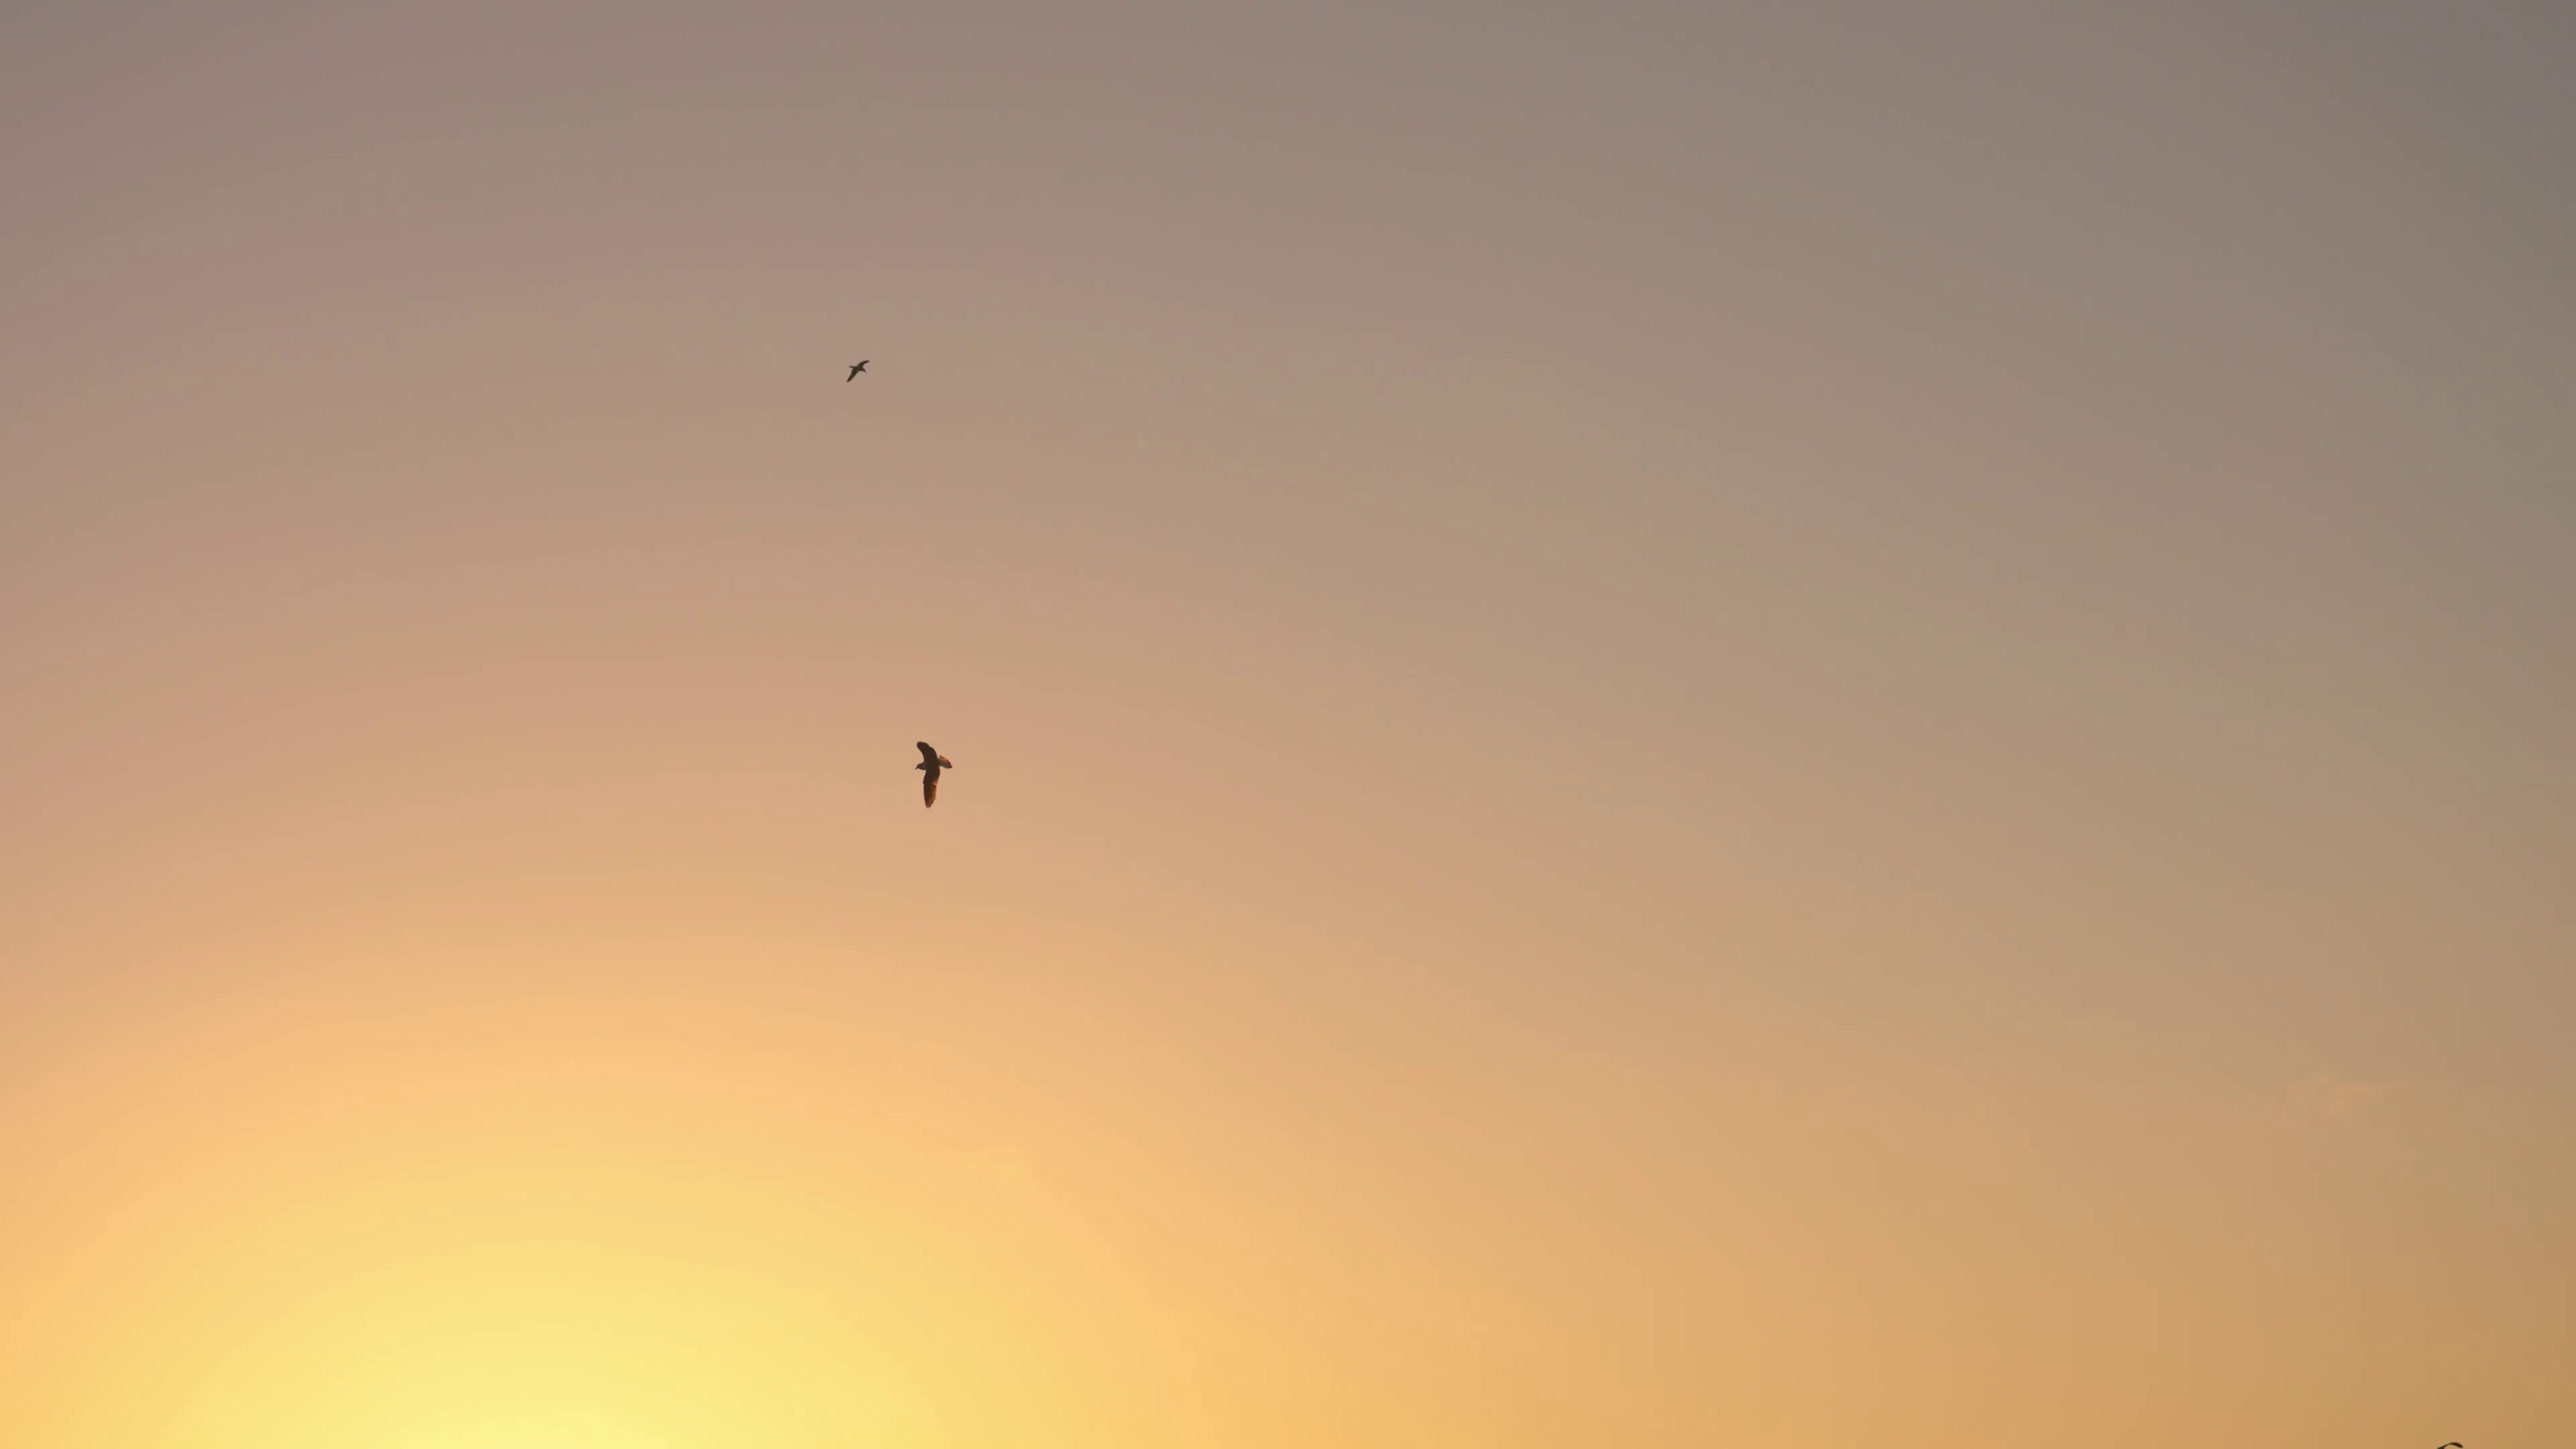bird: (909, 743, 954, 809), (849, 356, 870, 382)
